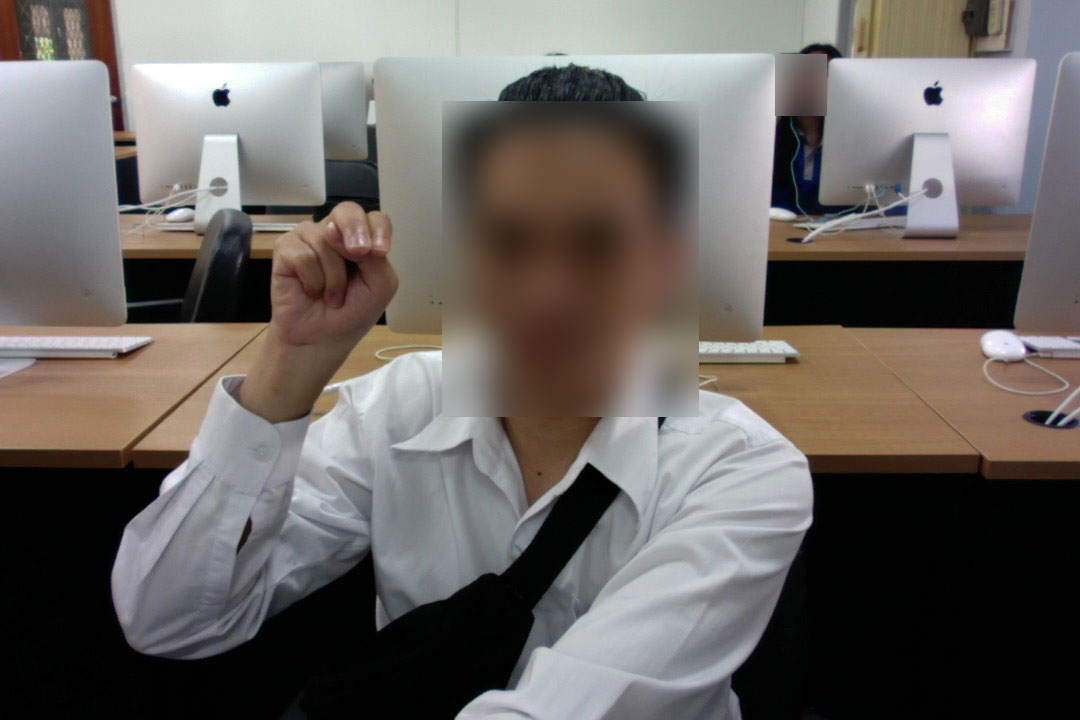nor: (249, 193, 404, 388)
